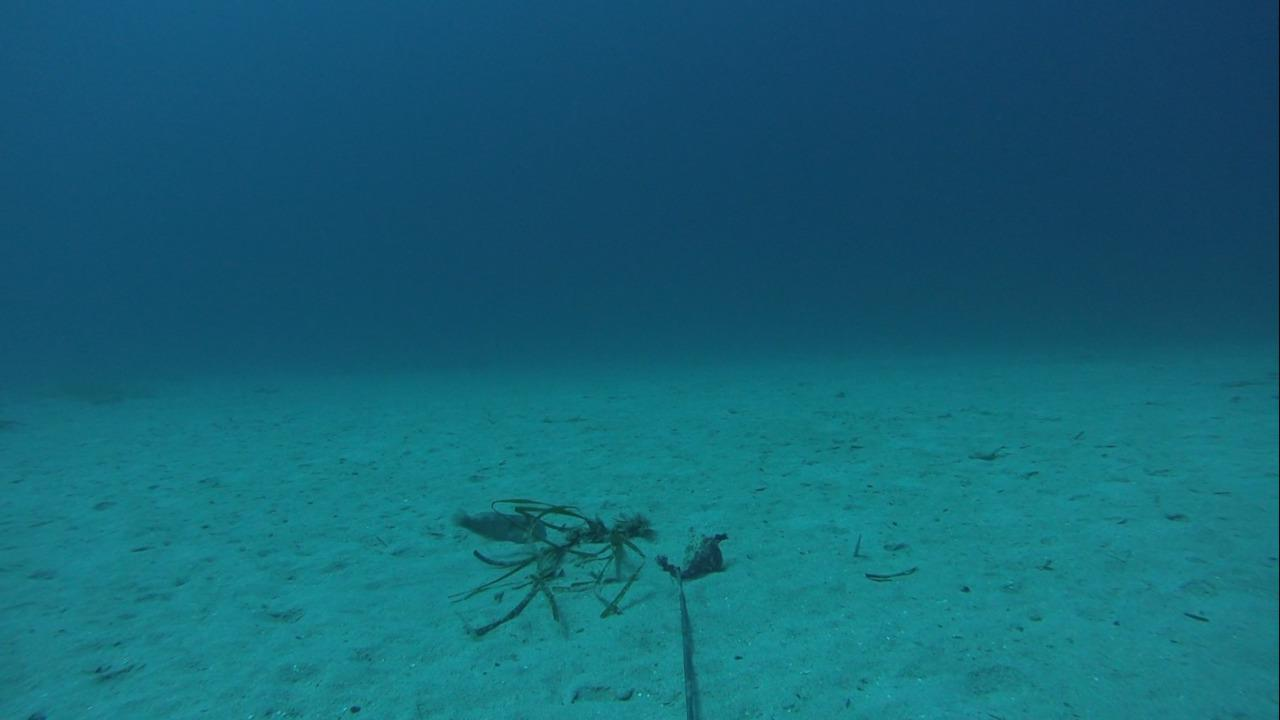raor: (449, 507, 543, 546)
